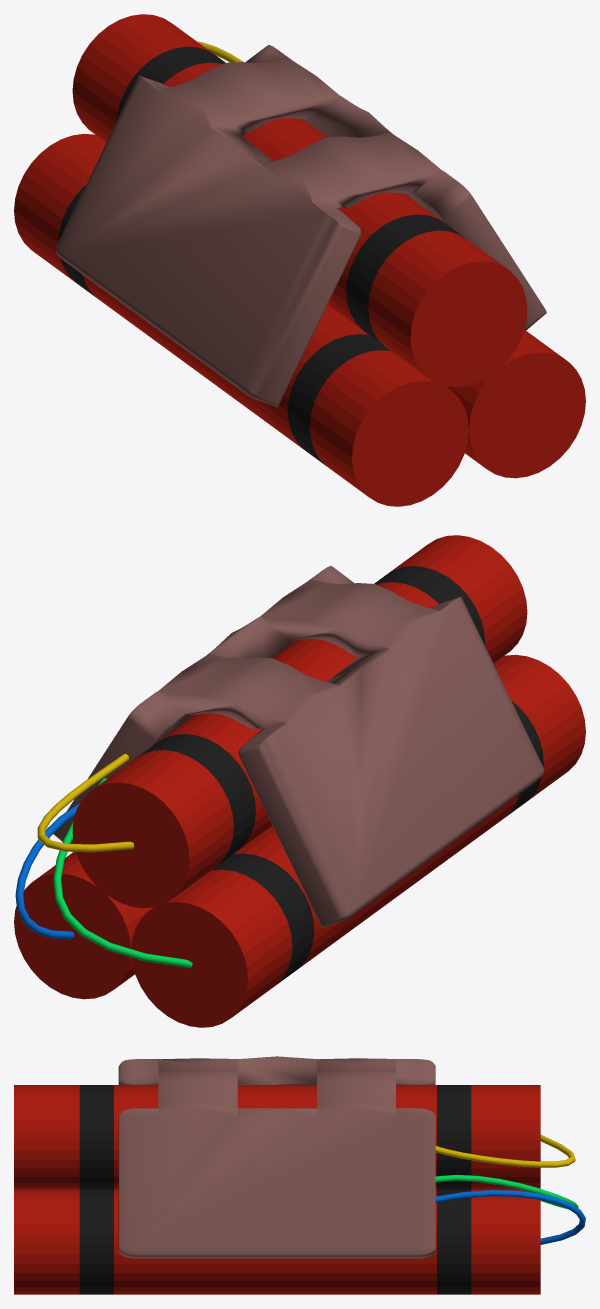
File: Bomb 1.fbx
The picture shows the model from 3 angles, top to bottom: view 1: azimuth 30°, elevation 25°; view 2: azimuth 150°, elevation 25°; view 3: azimuth 270°, elevation 25°; orthographic projection. The views are drawn at different scales.
Parts seen in each view (by area): view 1: Dynamite, Cover; view 2: Dynamite, Cover, Wire2, Wire1, Wire3; view 3: Cover, Dynamite, Wire3, Wire1, Wire2.
Boxes of the visible parts, box(x1,y1,x2,y2) form: Dynamite: box(14, 14, 585, 506); Cover: box(55, 45, 546, 407); Dynamite: box(14, 535, 585, 1027); Cover: box(53, 566, 543, 928); Wire2: box(53, 778, 192, 968); Wire1: box(37, 753, 134, 852); Wire3: box(15, 803, 79, 939); Cover: box(118, 1056, 435, 1258); Dynamite: box(14, 1085, 540, 1294); Wire3: box(435, 1190, 585, 1244); Wire1: box(435, 1134, 575, 1167); Wire2: box(435, 1174, 578, 1209).
Size of the model in its own units: 127 by 101 by 272.
